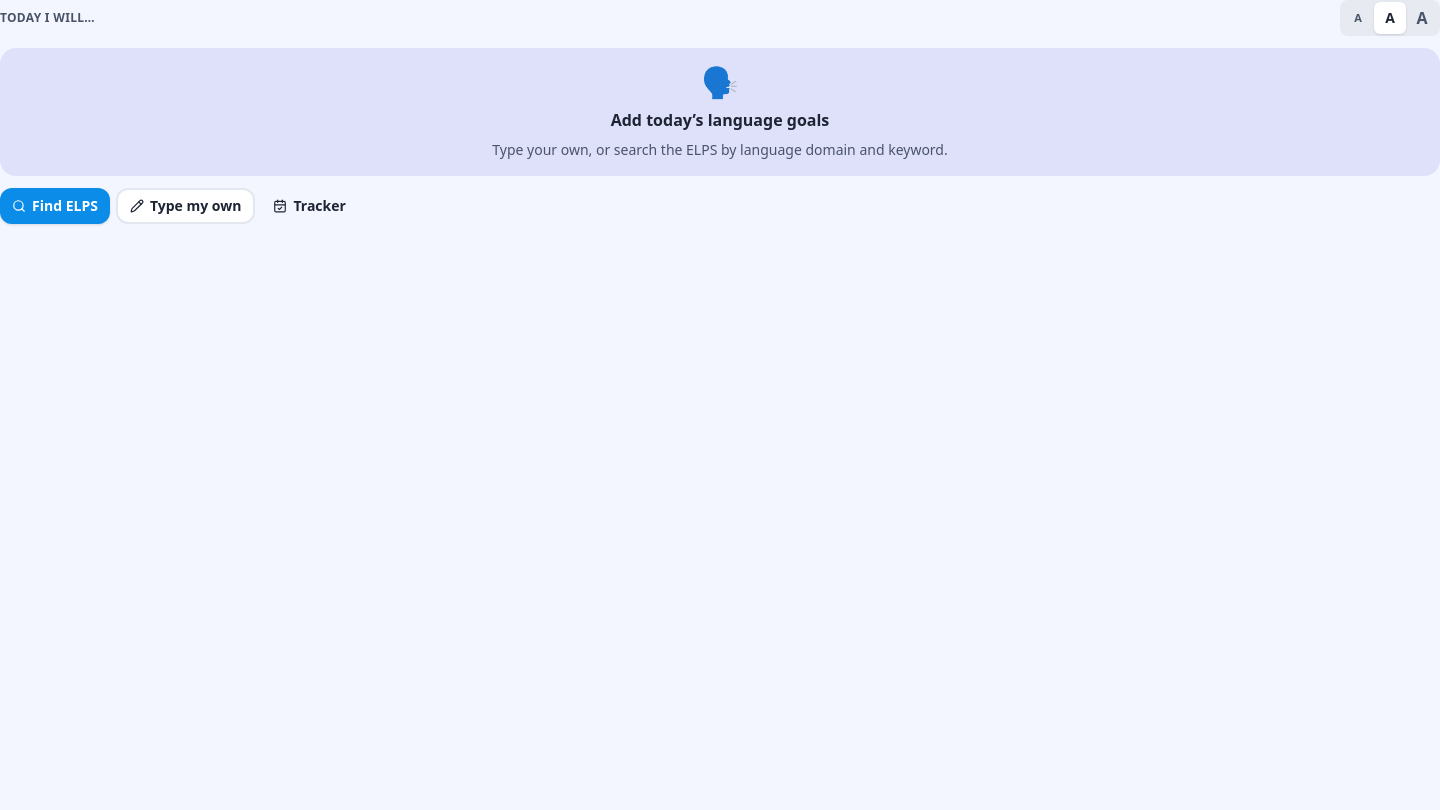
Test: I Will widget › searches ELPS by domain, adds a goal, logs it, and shows ELPS coverage
Expected: the text "Today I will…" is shown, [0,9,95,26]
Click the button "Find ELPS": (55, 206) [0,188,110,224]
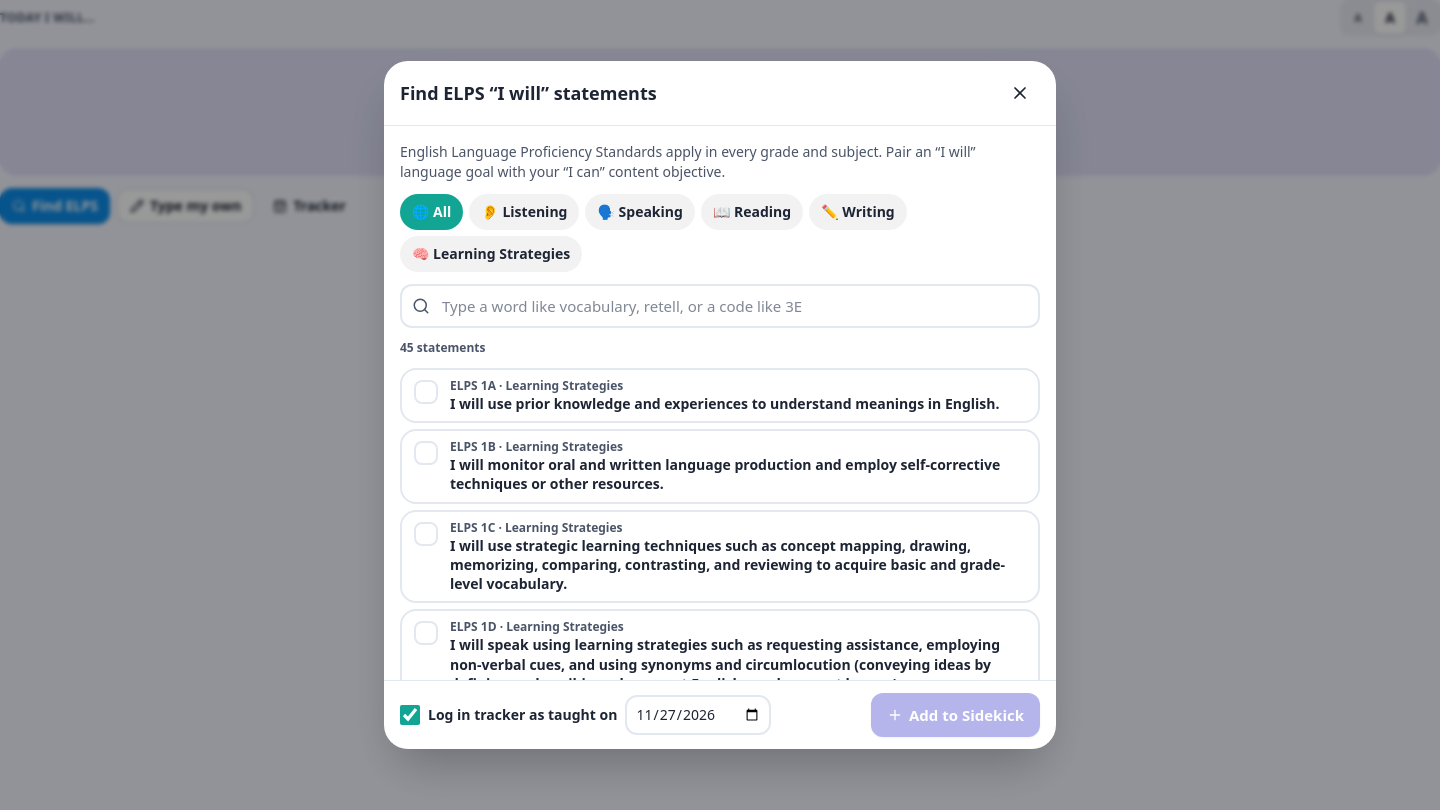
Click the radio button labelled "🗣️ Speaking": (640, 212) [586,194,695,230]
(page scrolled)
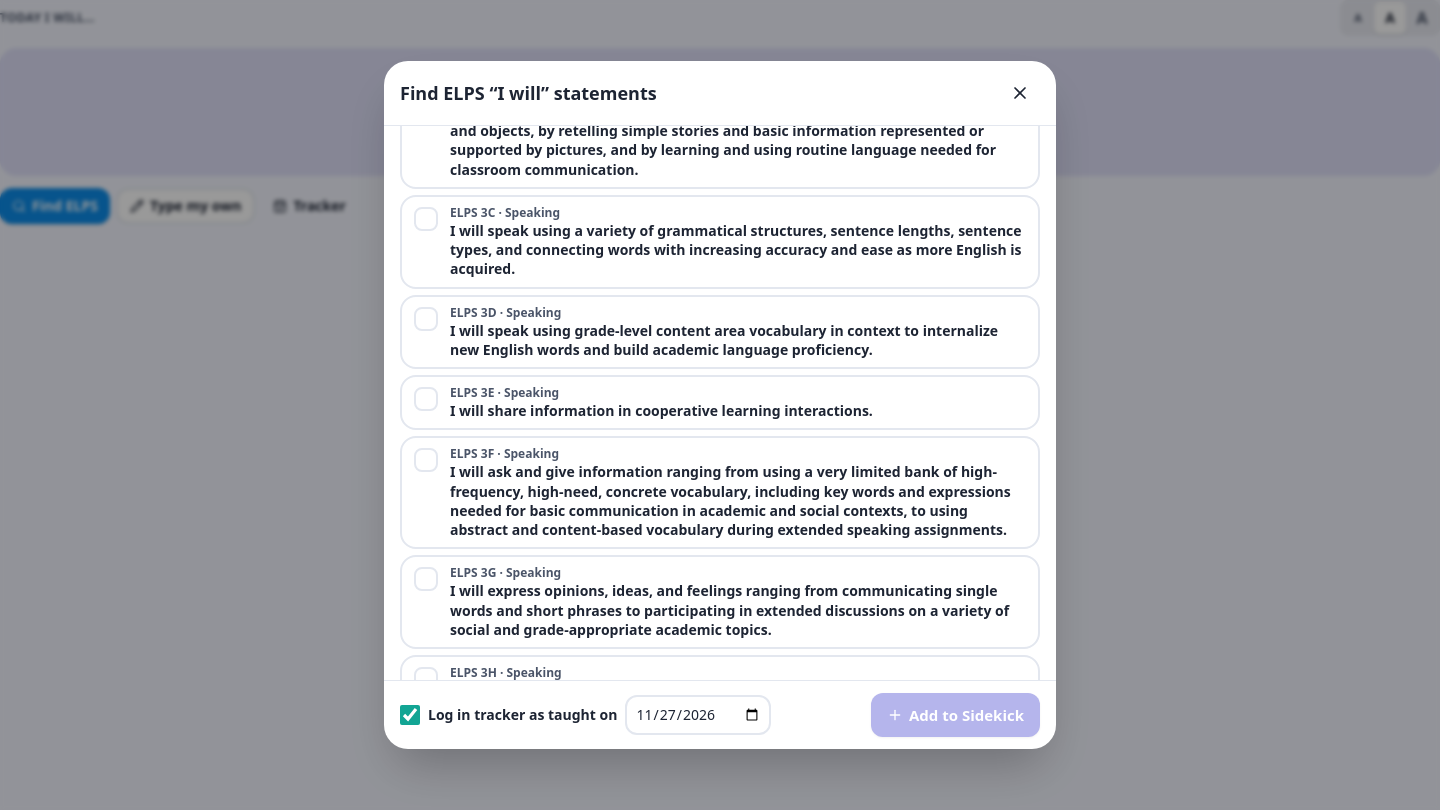
Click the checkbox labelled "ELPS 3E": (720, 403) [400,375,1040,430]
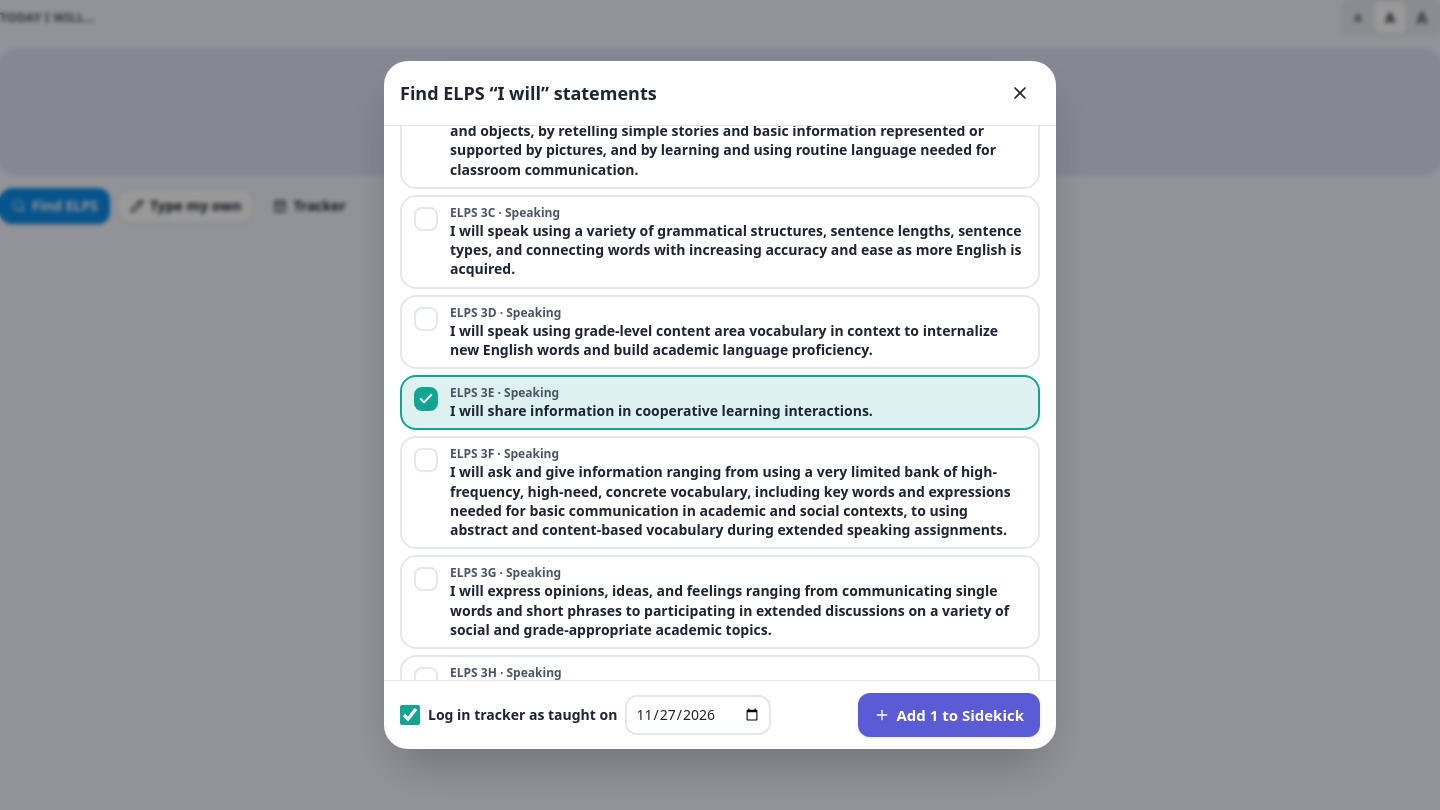
Click the button "Add 1 to Sidekick": (949, 715) [858,693,1040,737]
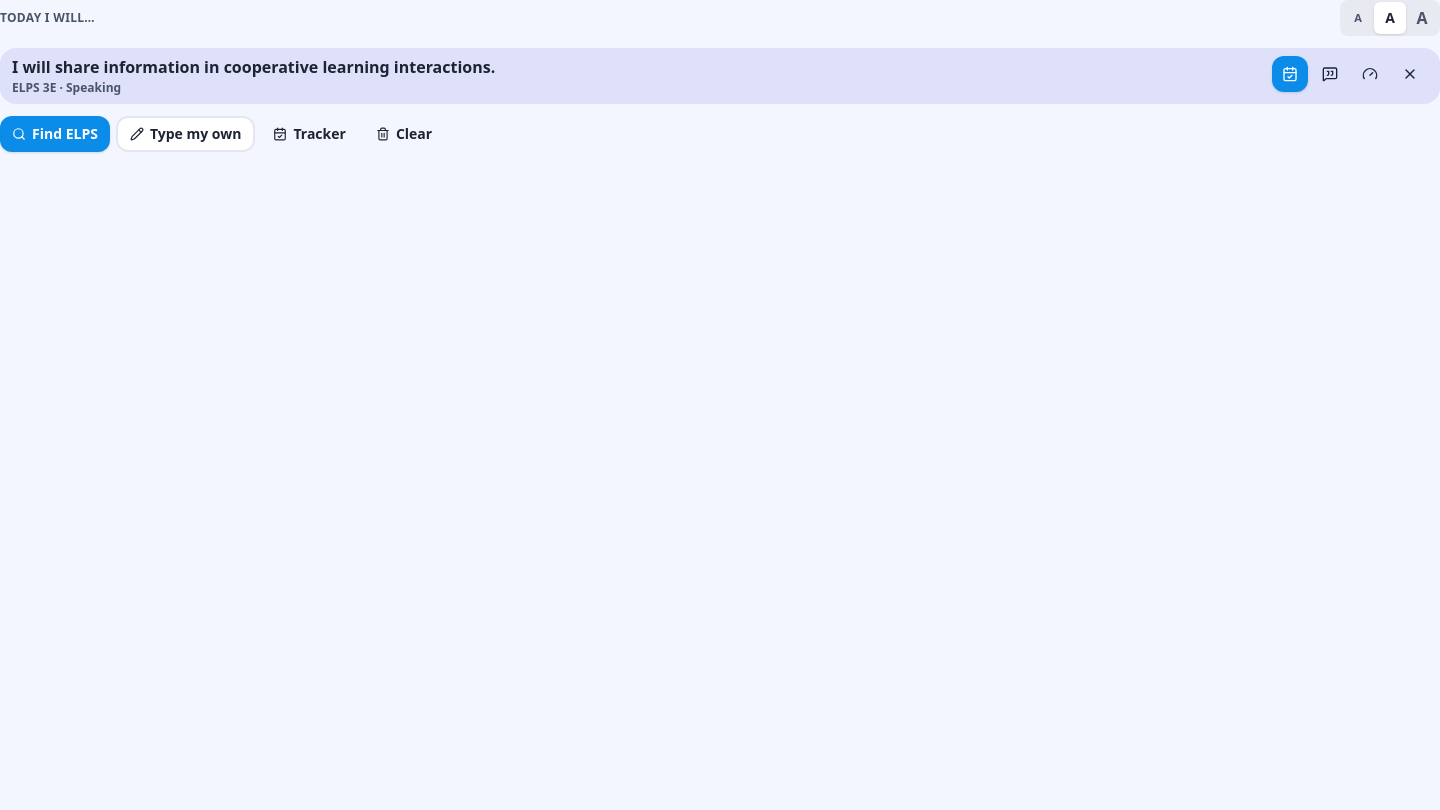
Expected: the list with test id "ican-list" shows "I will share information in cooperative learning interactions.", [12,56,495,78]
Expected: the list with test id "ican-list" shows "ELPS 3E · Speaking", [12,79,121,96]
Click the button "Tracker": (310, 134) [261,116,358,152]
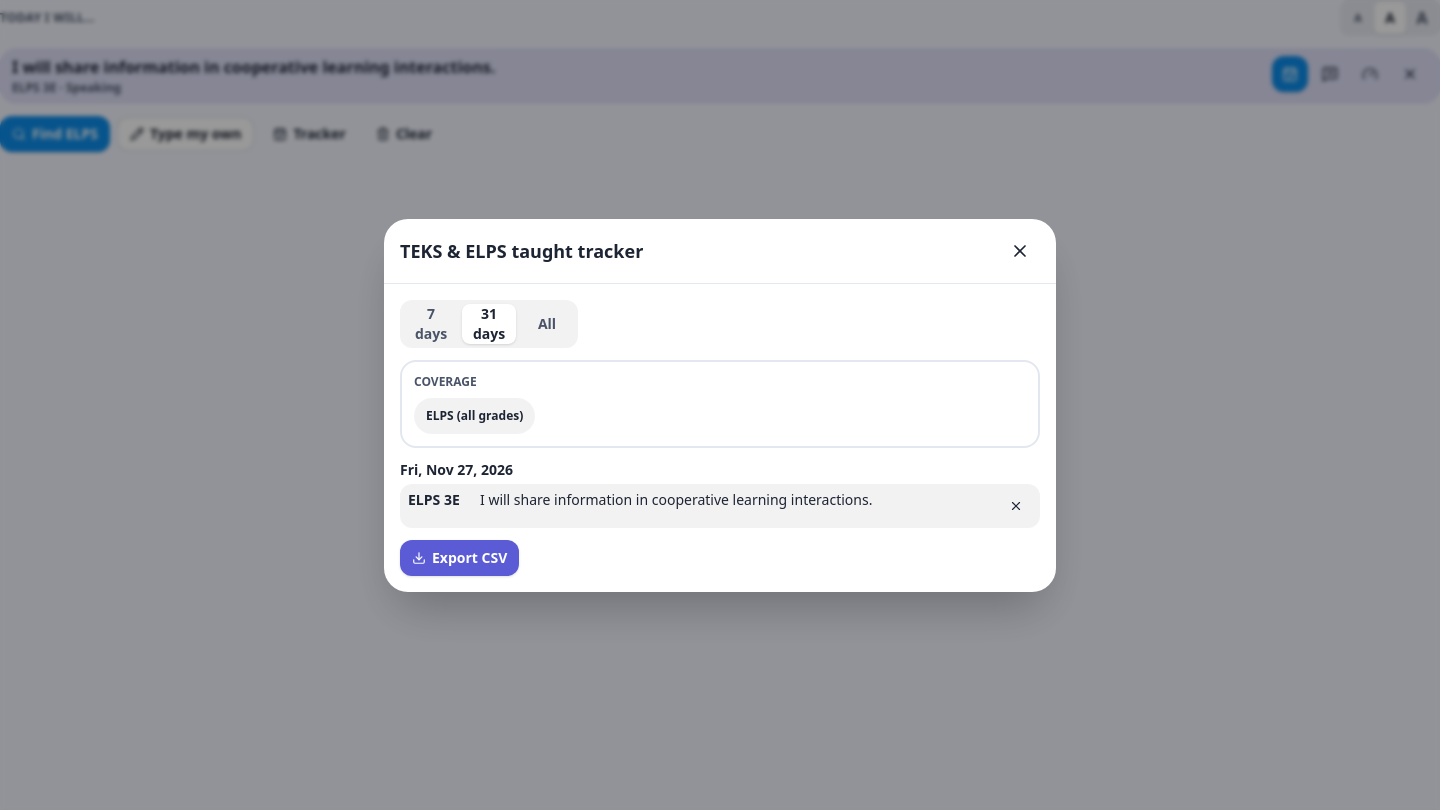
Click the button "ELPS (all grades)": (475, 416) [414,398,535,434]
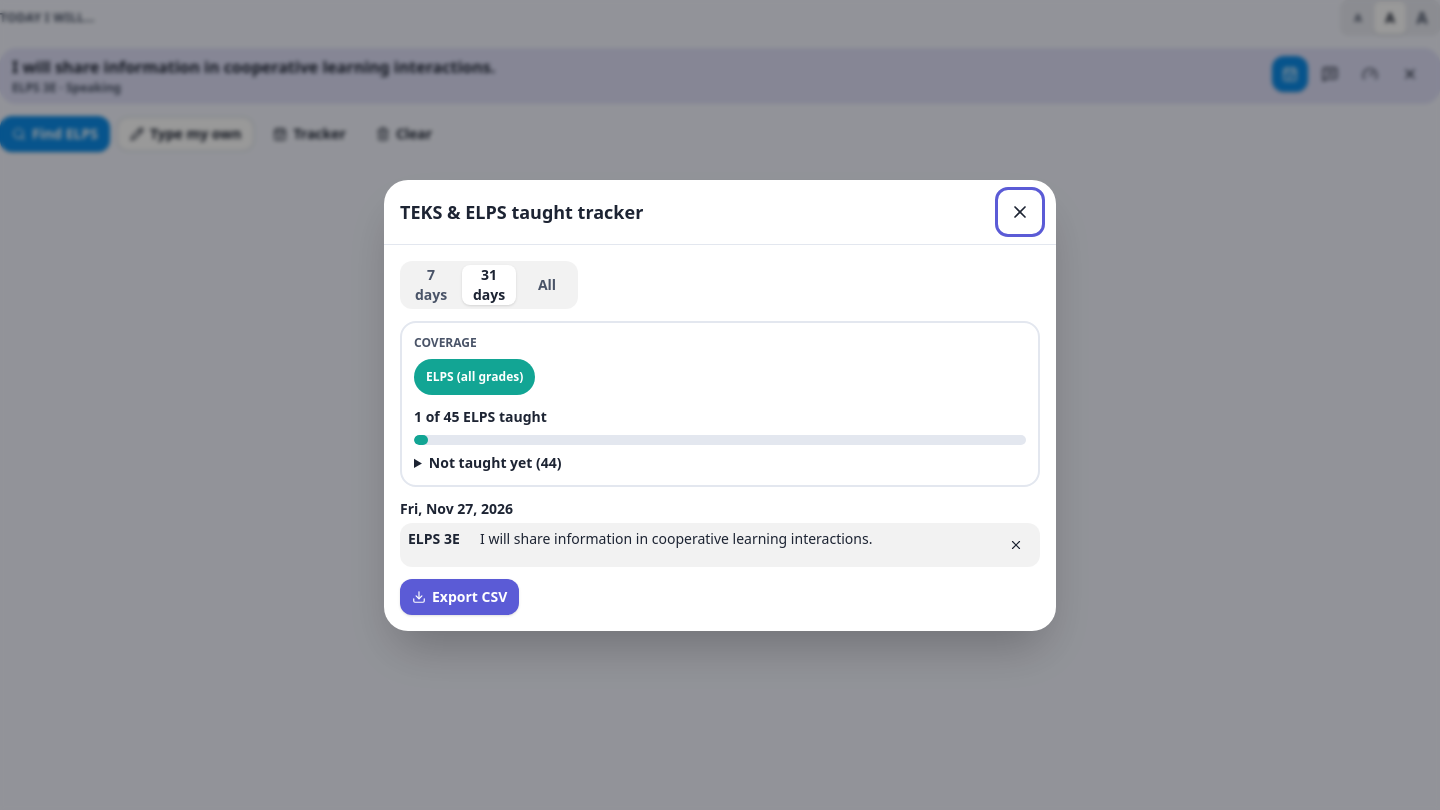
Expected: the text with test id "teks-coverage" reads "1 of 45 ELPS taught", [414,406,547,426]
